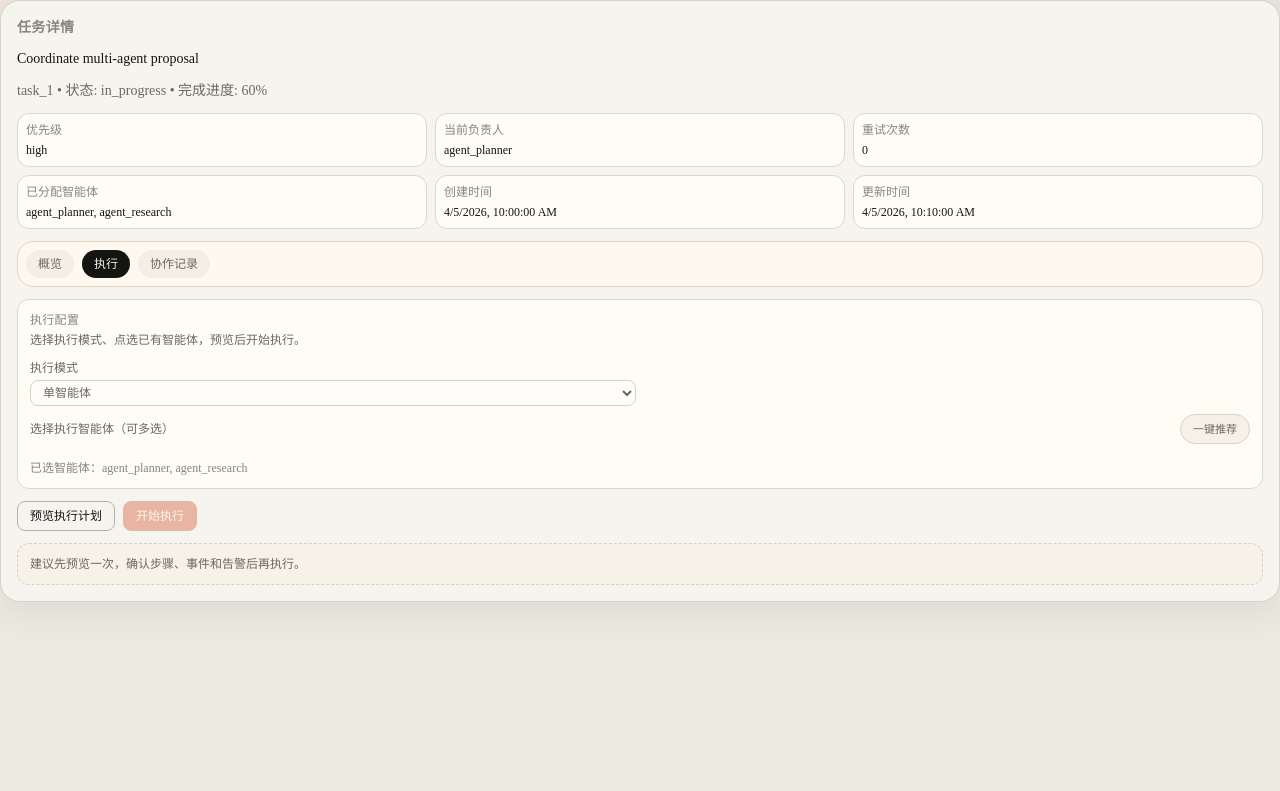
Test: TaskDetail › renders workflow runtime and DAG queue status in overview
Click the button with test id "task-detail-tab-overview".
click(50, 264)  # box [26,250,74,278]
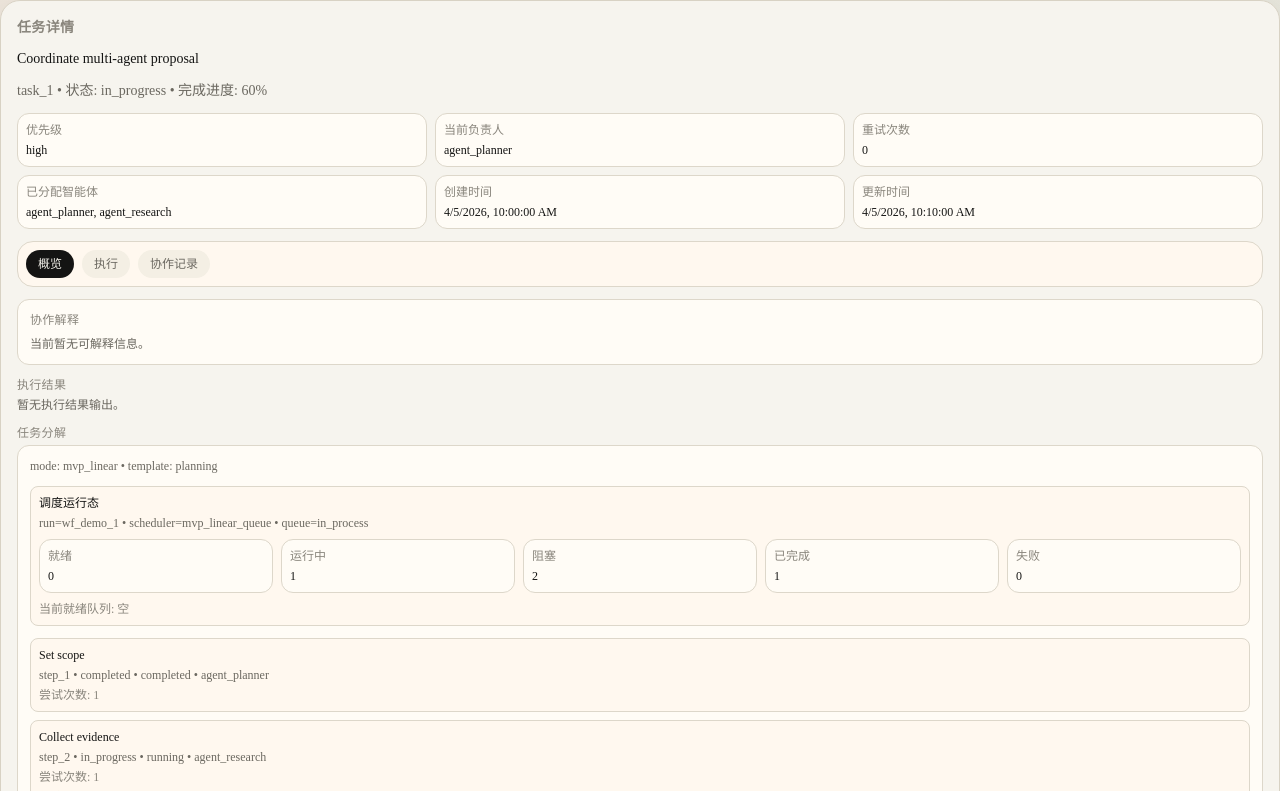
Check: the element with test id "task-workflow-runtime-panel" is shown, box [30,486,1250,626]
Check: the text "scheduler=mvp_linear_queue" is shown, box [39,516,368,530]
Check: the text "Collect evidence" is shown, box [39,730,119,744]
